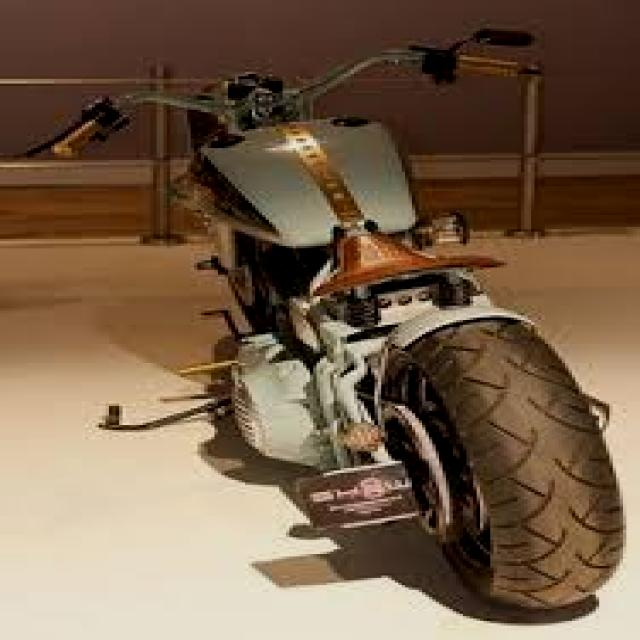MOTORCYCLE: (196, 119, 623, 632)
